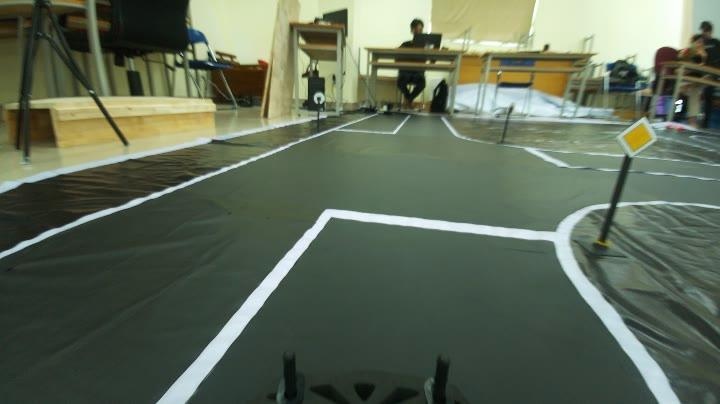priority: (616, 113, 660, 160)
